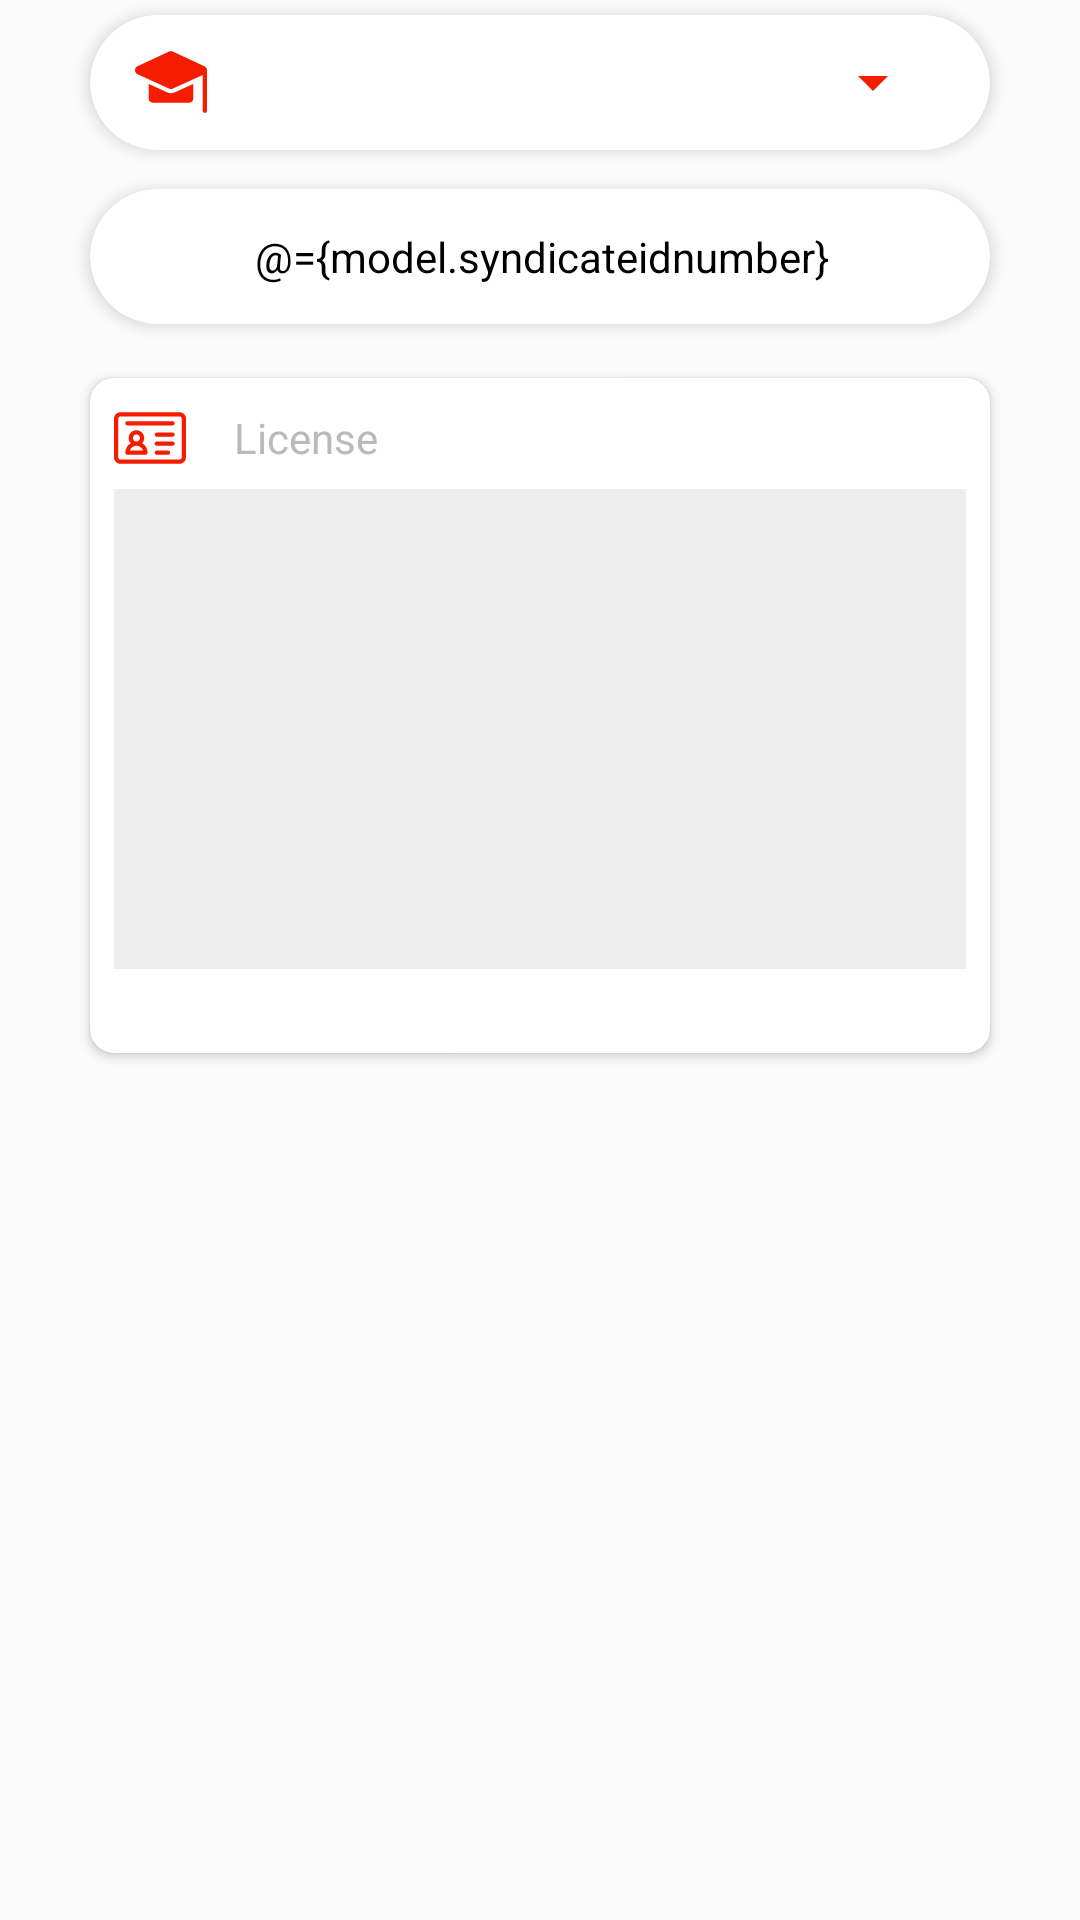

Locate icon controls on the screen. Image size 1080w x 1920h, boxes as [x1=x1, y1=y1, x2=x2, y2=y2].
degree: [x1=135, y1=51, x2=207, y2=113]
